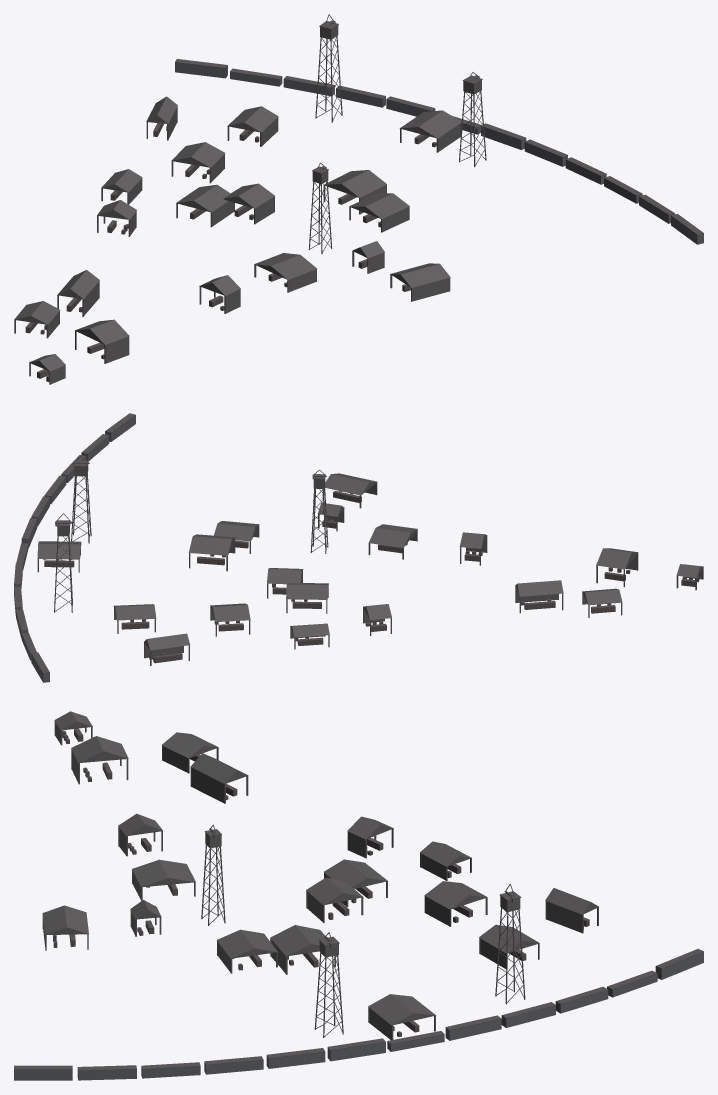
File: SM_City_MarsaAlFajr_0.fbx
3 renders of one model, top to bottom at view 1: azimuth 30°, elevation 25°; view 2: azimuth 150°, elevation 25°; view 3: azimuth 270°, elevation 25°, orthographic. The views are drawn at different scales.
Visible parts, largest first — view 1: SM_City_MarsaAlFajr_0; view 2: SM_City_MarsaAlFajr_0; view 3: SM_City_MarsaAlFajr_0.
Boxes of the visible parts, <box> form: SM_City_MarsaAlFajr_0: <box>14,14,703,384</box>; SM_City_MarsaAlFajr_0: <box>14,413,703,682</box>; SM_City_MarsaAlFajr_0: <box>14,711,703,1080</box>.
Bounding box in the file's own units: 11627 × 1779 × 9715.
Materials: 4 (4 with a texture image).
